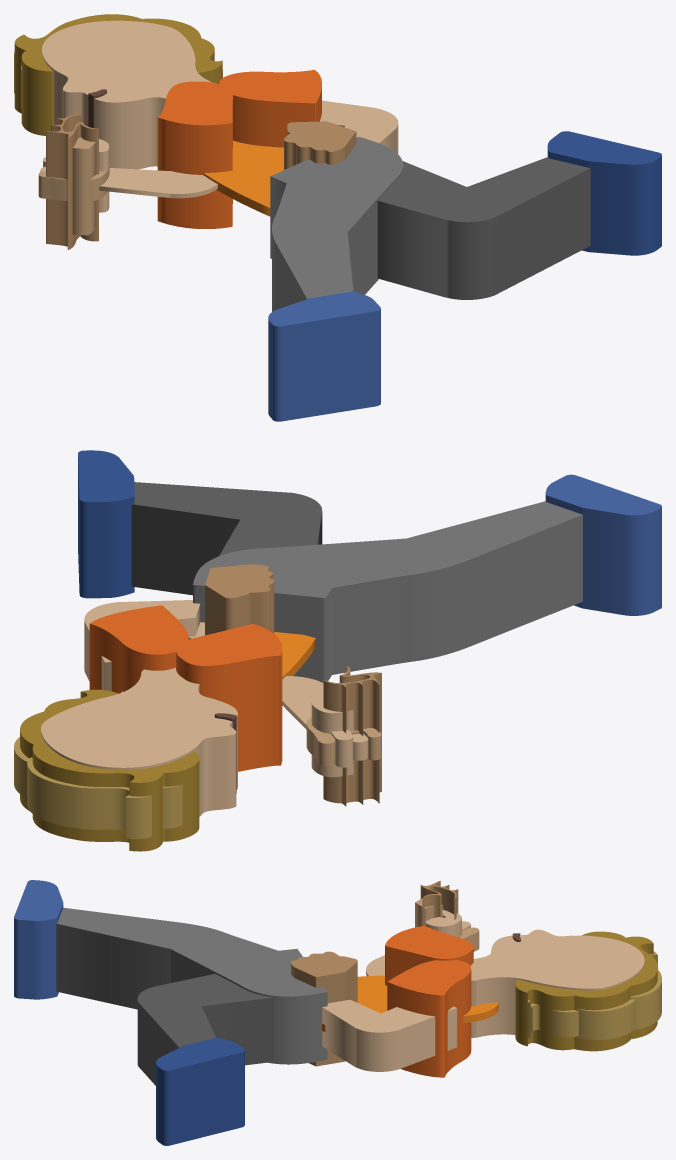
The model's file is emoji_u1f3c3_1f3fc.glb.
3 renders of one model, top to bottom at view 1: azimuth 30°, elevation 25°; view 2: azimuth 150°, elevation 25°; view 3: azimuth 270°, elevation 25°, orthographic. The views are drawn at different scales.
Visible parts, largest first — view 1: emoji_u1f3c3_1f3fc; view 2: emoji_u1f3c3_1f3fc; view 3: emoji_u1f3c3_1f3fc.
Boxes of the visible parts, x1,y1,x2,y2 form: emoji_u1f3c3_1f3fc: (14, 14, 661, 421); emoji_u1f3c3_1f3fc: (14, 450, 661, 851); emoji_u1f3c3_1f3fc: (14, 880, 661, 1145).
Bounding box in the file's own units: 0.0227 × 0.0052 × 0.0329.
